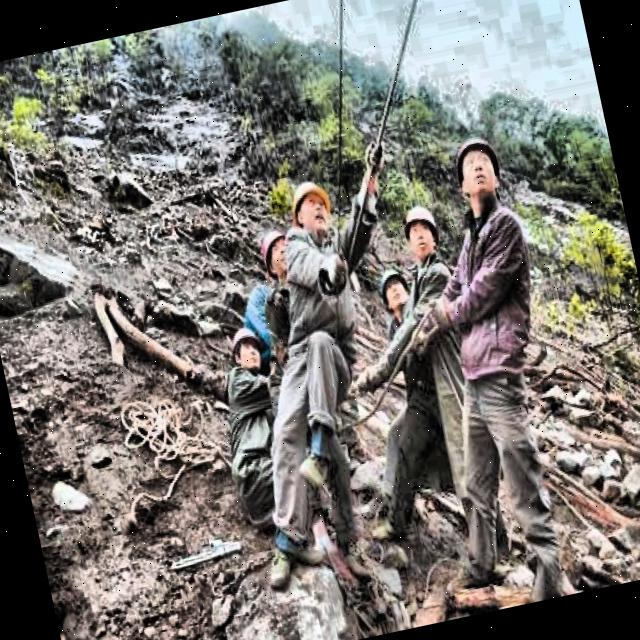helmet: (444, 118, 512, 220), (276, 168, 340, 245), (396, 194, 447, 266), (252, 218, 298, 282), (371, 260, 420, 320), (222, 322, 270, 377)
